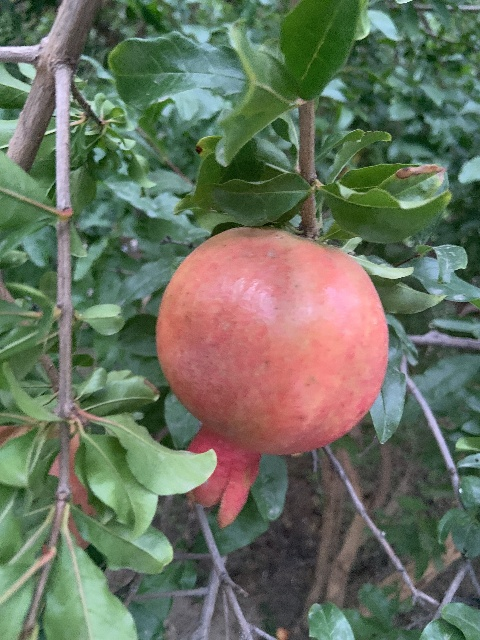ripe: (155, 226, 387, 526)
